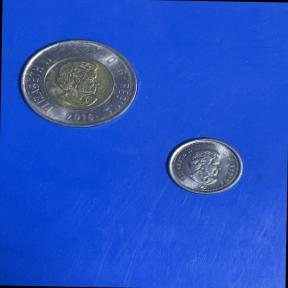coin: (11, 31, 144, 134), (162, 131, 248, 200)
